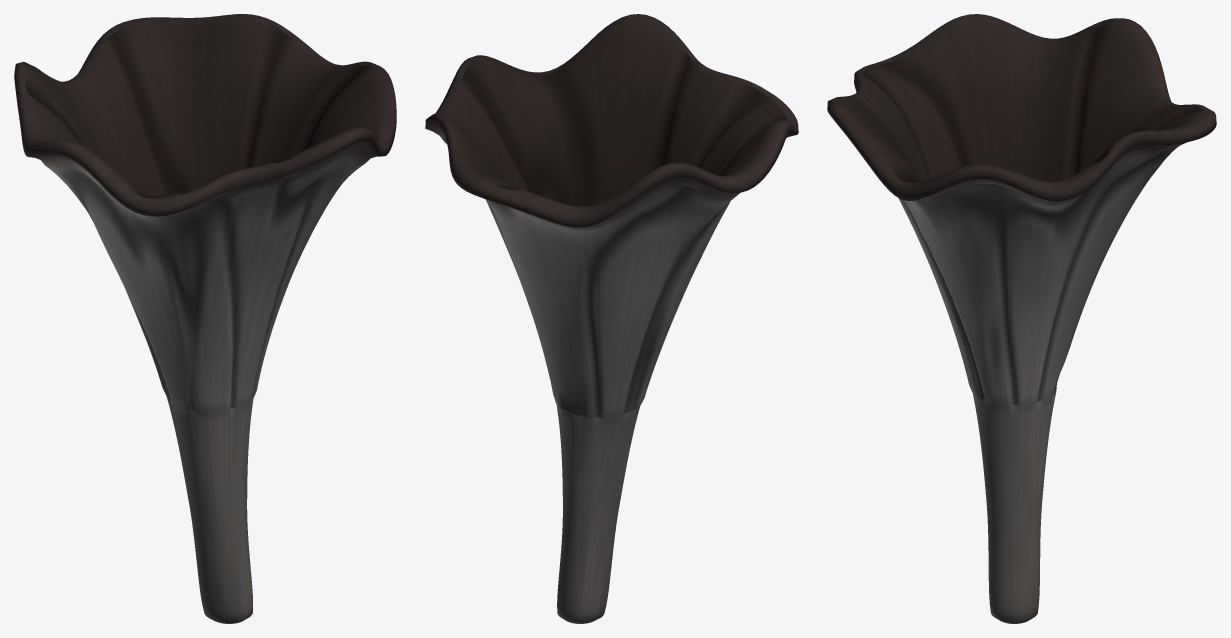
The model's file is craterellus-cornucopioides-drawn.glb.
The picture shows the model from 3 angles, left to right: view 1: azimuth 30°, elevation 25°; view 2: azimuth 150°, elevation 25°; view 3: azimuth 270°, elevation 25°; orthographic projection. The views are drawn at different scales.
Bounding box in the file's own units: 0.5955 × 0.9392 × 0.6272.
1 material, 1 textured.
